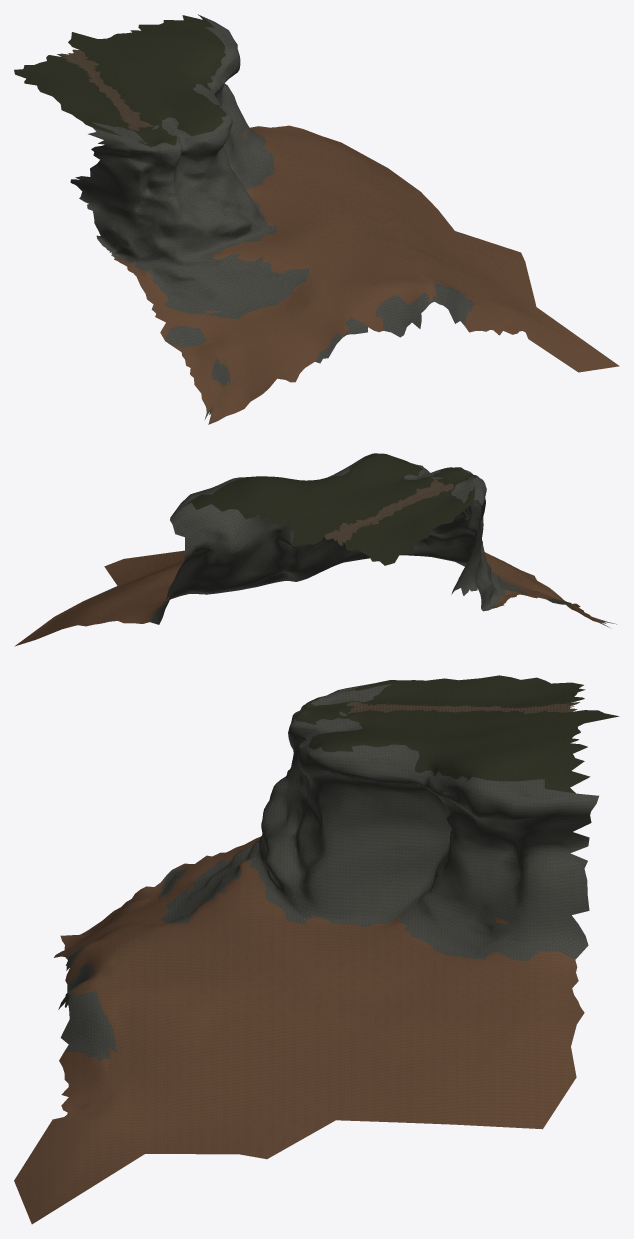
File: G3_Myrtana_Landscape_Cell_133.obj
The picture shows the model from 3 angles, top to bottom: view 1: azimuth 30°, elevation 25°; view 2: azimuth 150°, elevation 25°; view 3: azimuth 270°, elevation 25°; orthographic projection. The views are drawn at different scales.
Visible parts, largest first — view 1: G3_Myrtana_Landscape_Cell_133_4, G3_Myrtana_Landscape_Cell_133_1, G3_Myrtana_Landscape_Cell_133_0, G3_Myrtana_Landscape_Cell_133_3, G3_Myrtana_Landscape_Cell_133_2, G3_Myrtana_Landscape_Cell_133_5; view 2: G3_Myrtana_Landscape_Cell_133_1, G3_Myrtana_Landscape_Cell_133_0, G3_Myrtana_Landscape_Cell_133_4, G3_Myrtana_Landscape_Cell_133_5, G3_Myrtana_Landscape_Cell_133_2, G3_Myrtana_Landscape_Cell_133_3; view 3: G3_Myrtana_Landscape_Cell_133_4, G3_Myrtana_Landscape_Cell_133_1, G3_Myrtana_Landscape_Cell_133_0, G3_Myrtana_Landscape_Cell_133_3, G3_Myrtana_Landscape_Cell_133_2, G3_Myrtana_Landscape_Cell_133_5.
Boxes of the visible parts, x1,y1,x2,y2 form: G3_Myrtana_Landscape_Cell_133_4: (111,125,619,424); G3_Myrtana_Landscape_Cell_133_1: (70,14,464,381); G3_Myrtana_Landscape_Cell_133_0: (14,15,226,147); G3_Myrtana_Landscape_Cell_133_3: (97,123,474,420); G3_Myrtana_Landscape_Cell_133_2: (92,14,232,149); G3_Myrtana_Landscape_Cell_133_5: (57,49,153,130); G3_Myrtana_Landscape_Cell_133_1: (160,454,560,622); G3_Myrtana_Landscape_Cell_133_0: (185,453,476,565); G3_Myrtana_Landscape_Cell_133_4: (14,550,616,646); G3_Myrtana_Landscape_Cell_133_5: (324,479,453,545); G3_Myrtana_Landscape_Cell_133_2: (174,453,479,513); G3_Myrtana_Landscape_Cell_133_3: (150,558,609,627); G3_Myrtana_Landscape_Cell_133_4: (14,836,584,1224); G3_Myrtana_Landscape_Cell_133_1: (58,683,598,1047); G3_Myrtana_Landscape_Cell_133_0: (294,675,619,793); G3_Myrtana_Landscape_Cell_133_3: (64,856,588,1061); G3_Myrtana_Landscape_Cell_133_2: (291,683,598,799); G3_Myrtana_Landscape_Cell_133_5: (347,702,579,713).
Size of the model in its own units: 180 by 107 by 185.
